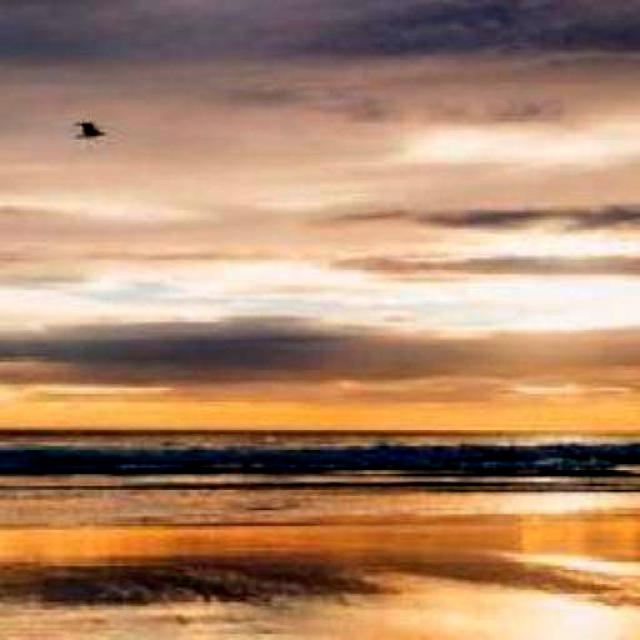airplane: (69, 118, 109, 140)
